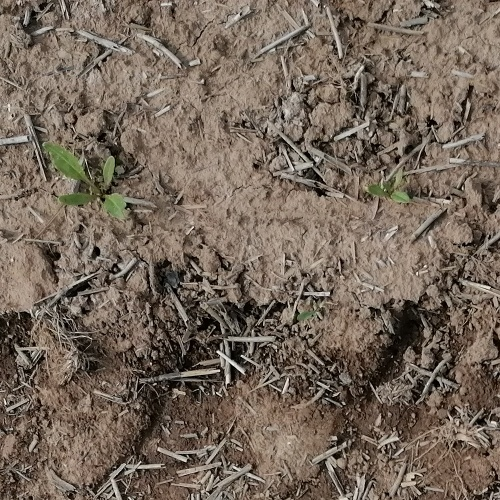beet: (44, 140, 130, 220), (366, 180, 417, 205)
